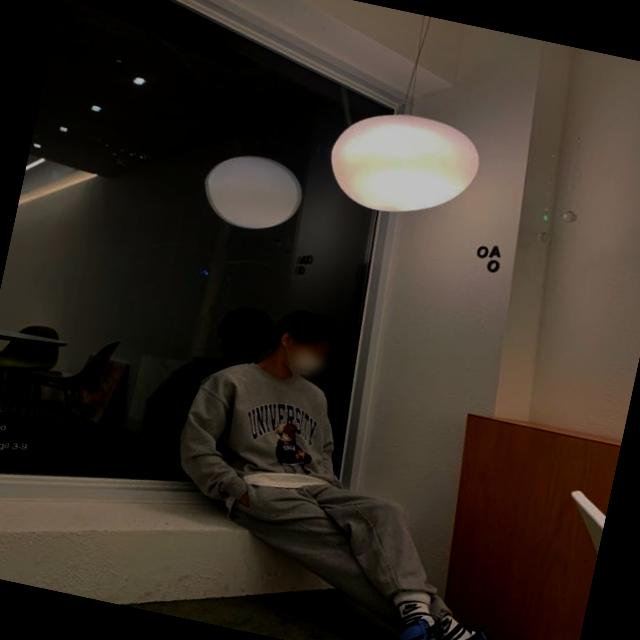mtm: (172, 351, 365, 527)
trainingpants: (211, 460, 479, 638)
